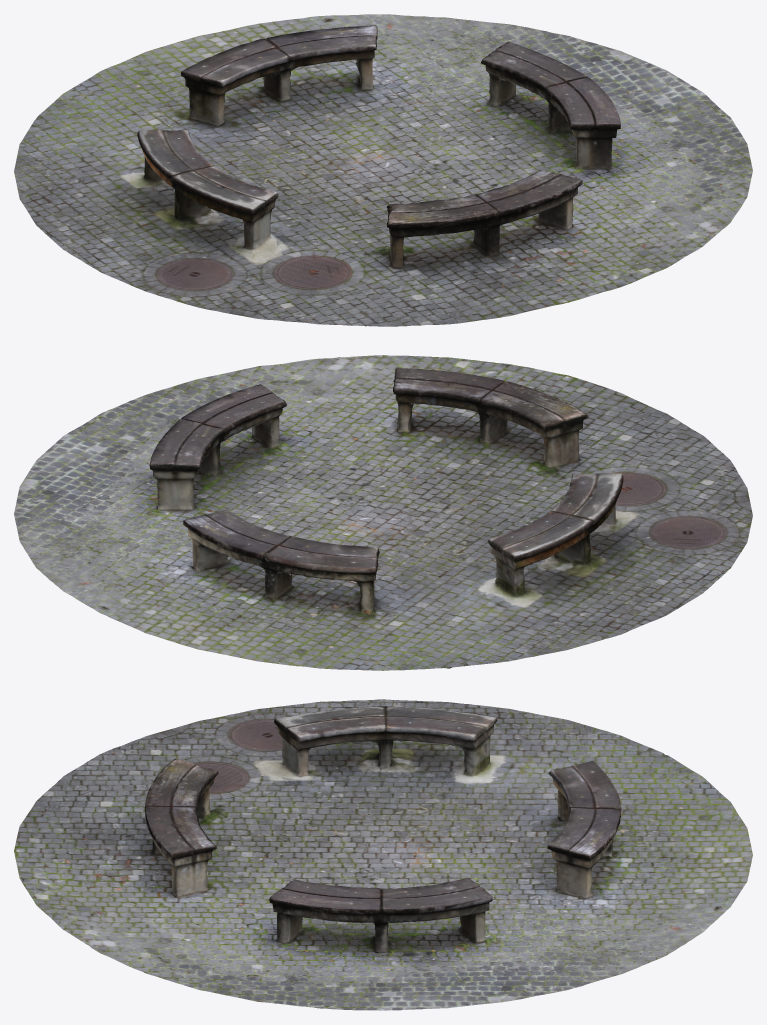
File: scanned_benches_on_cobble.glb
The picture shows the model from 3 angles, top to bottom: view 1: azimuth 30°, elevation 25°; view 2: azimuth 150°, elevation 25°; view 3: azimuth 270°, elevation 25°; orthographic projection.
Visible parts, largest first — view 1: Object_material_0_0; view 2: Object_material_0_0; view 3: Object_material_0_0.
Part boxes in pixels (x1,y1,x2,y2): Object_material_0_0: (14,14,752,326); Object_material_0_0: (14,355,752,670); Object_material_0_0: (14,699,752,1010).
Size of the model in its own units: 374 by 28.61 by 374.
Materials: 1 (1 with a texture image).
